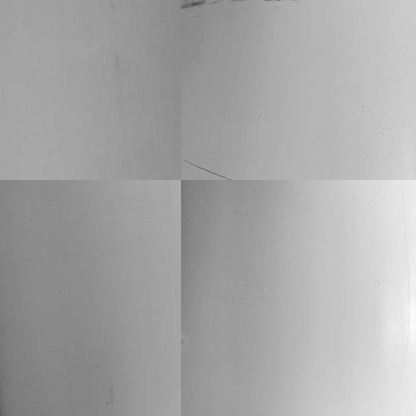sunshang: (178, 154, 242, 184)
